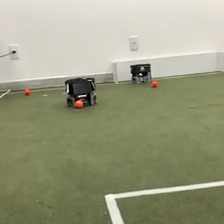ball: (73, 98, 84, 109), (23, 86, 32, 96), (151, 80, 159, 88)
goal: (109, 49, 224, 86)
robot: (63, 75, 98, 108), (128, 61, 154, 85)
